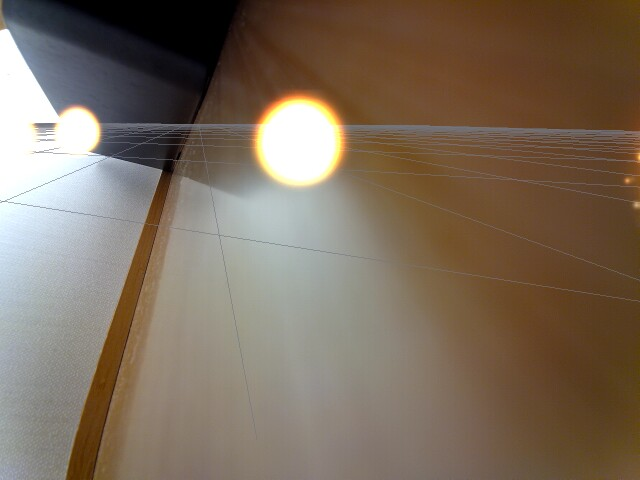firebig: (239, 96, 355, 204)
